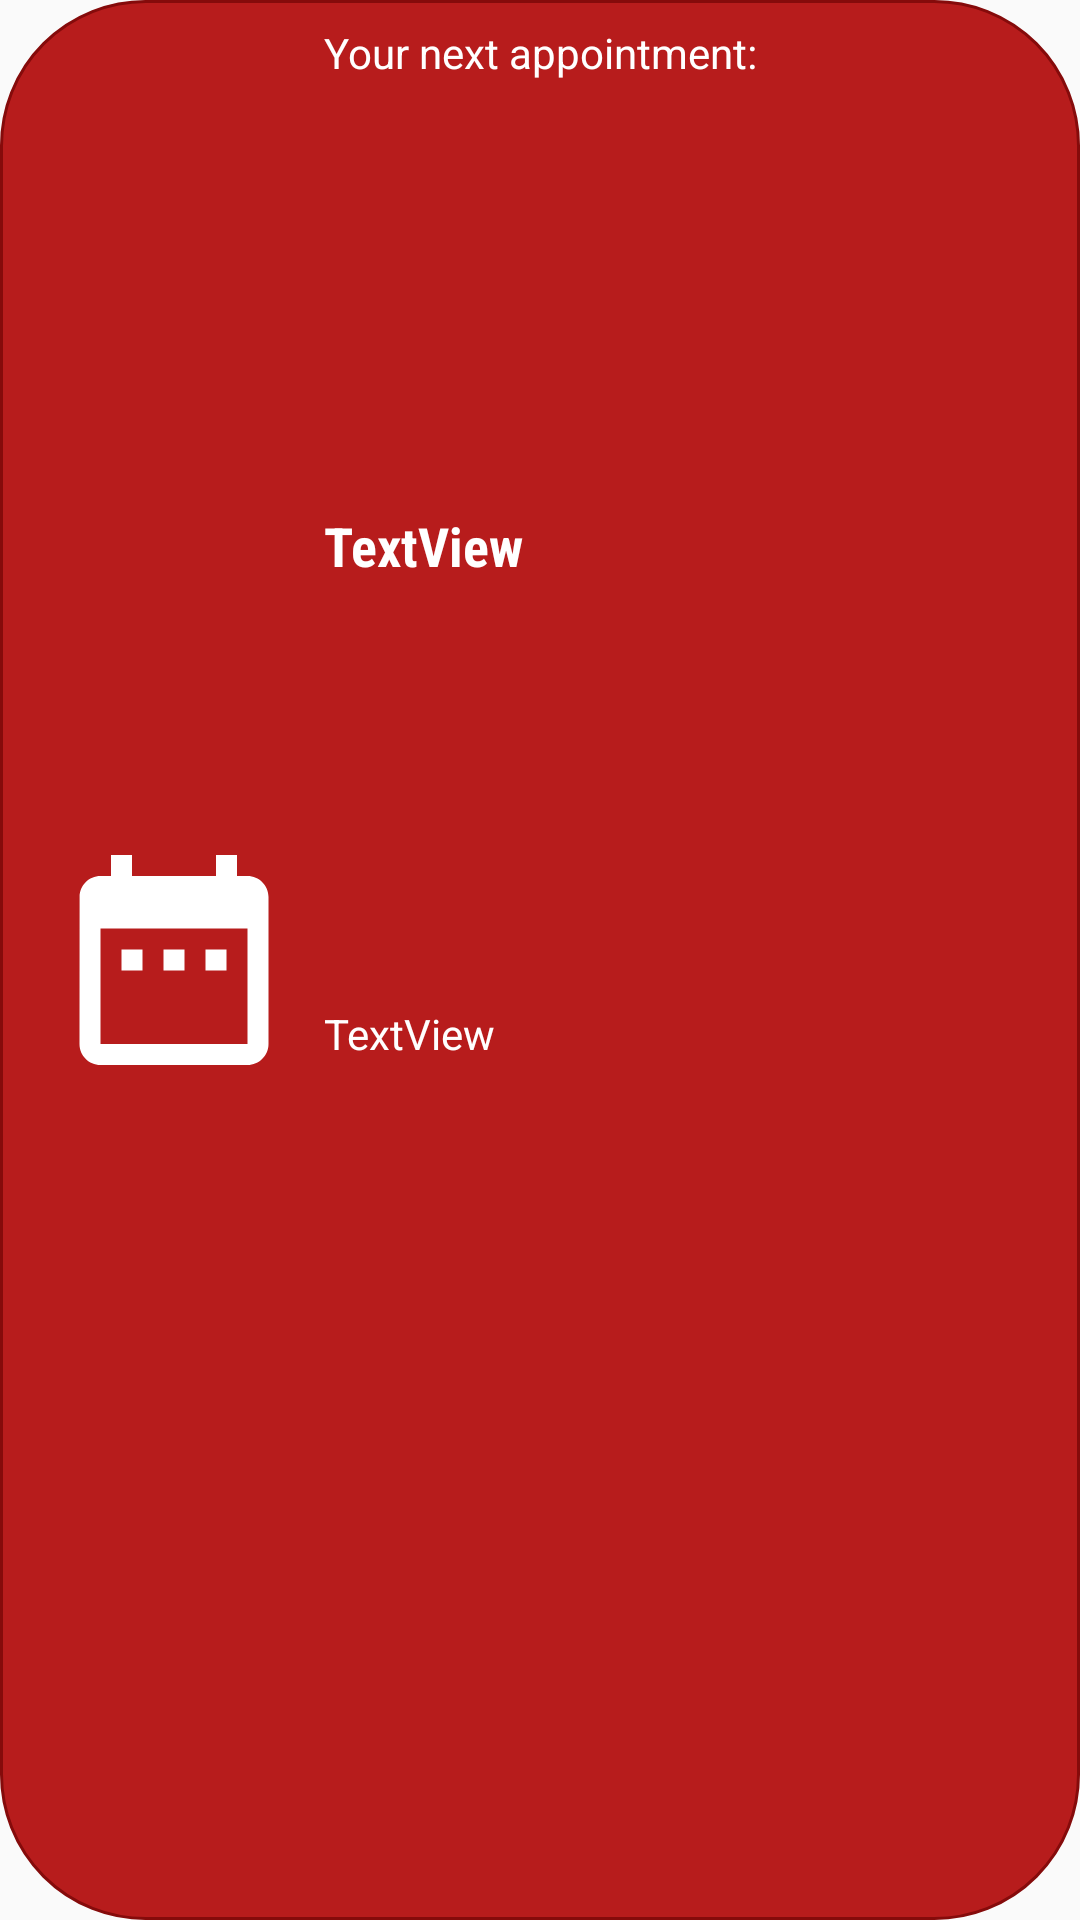

Screen size 1080 x 1920. Icon name, then its center in pixels as [x,y]:
date range: [174,960]
